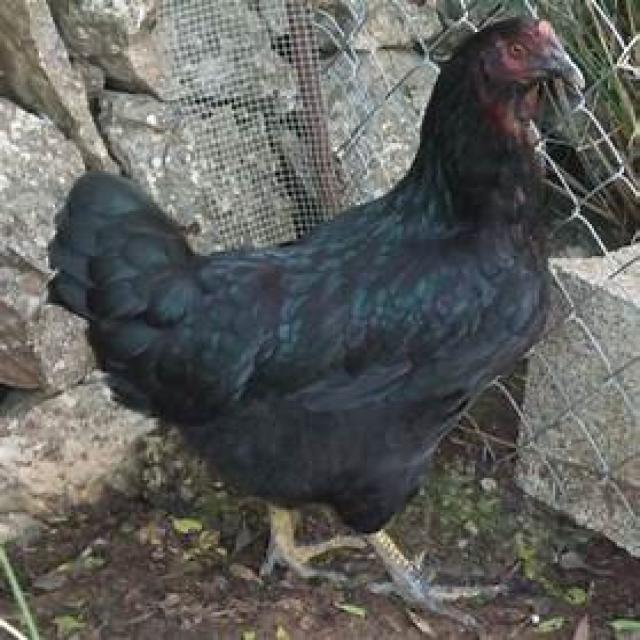hen: (52, 18, 582, 529)
